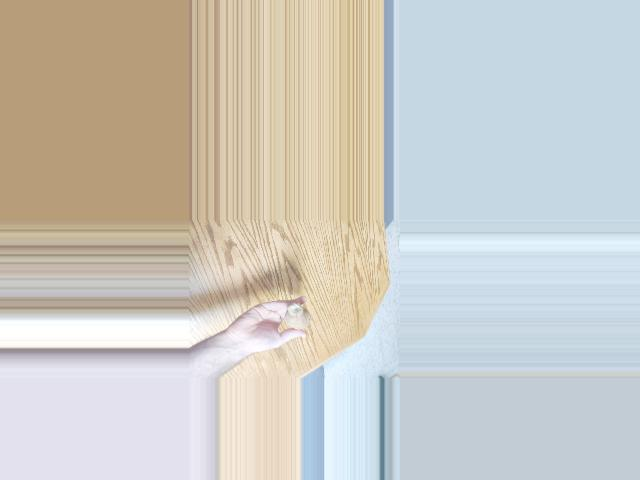sweet_potato: (285, 305, 312, 330)
